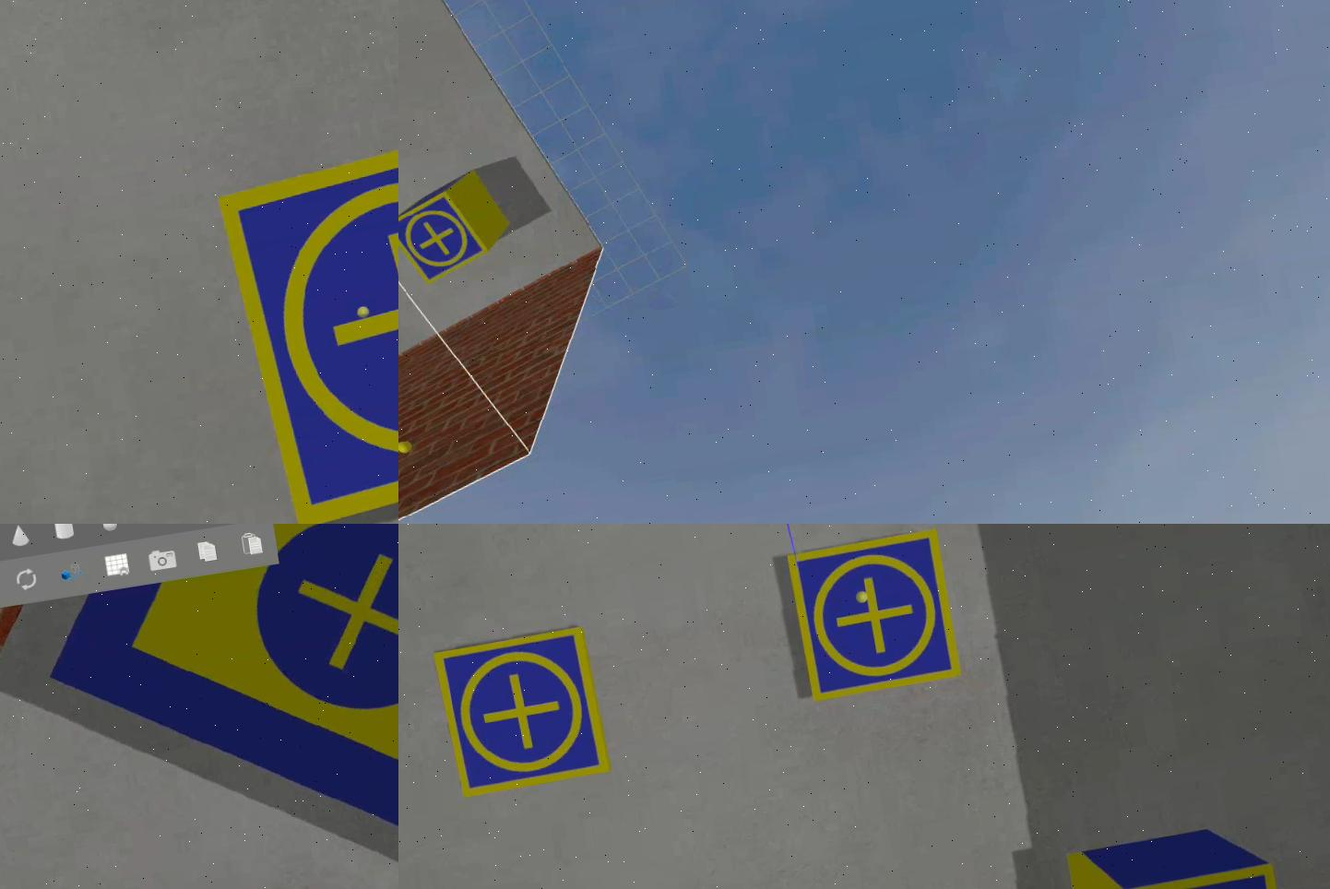large_base: (26, 525, 399, 889)
small_base: (213, 107, 399, 525), (433, 625, 614, 802), (787, 529, 966, 707), (399, 186, 493, 289)
